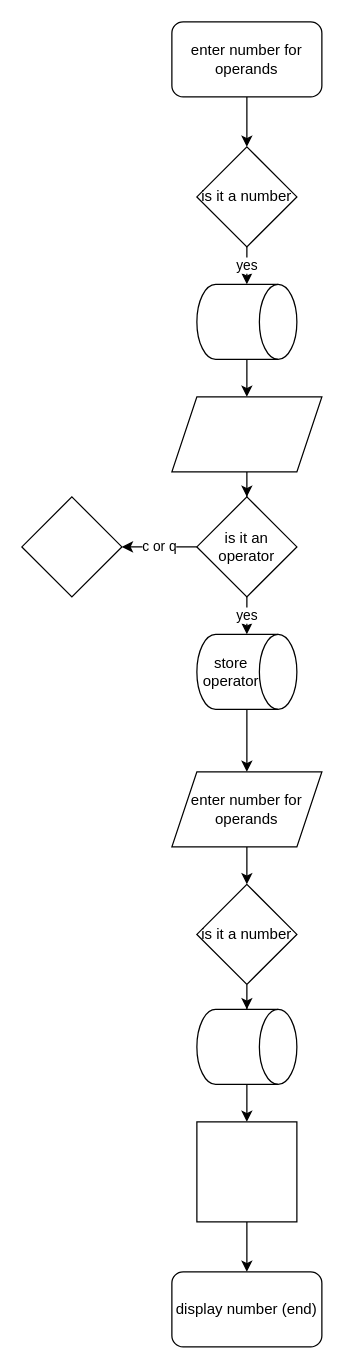
The diagram is 344 pixels wide and 1369 high, and some of its shapes have lost their labels. The box of each missing label's shape, as (x1, y1, x2, y2) in pixels:
calculate it: (196, 1121, 297, 1222)
enter an operator (+,-,/,*,c,q): (171, 396, 322, 472)
save number: (196, 1008, 297, 1084)
store number: (196, 283, 297, 359)
